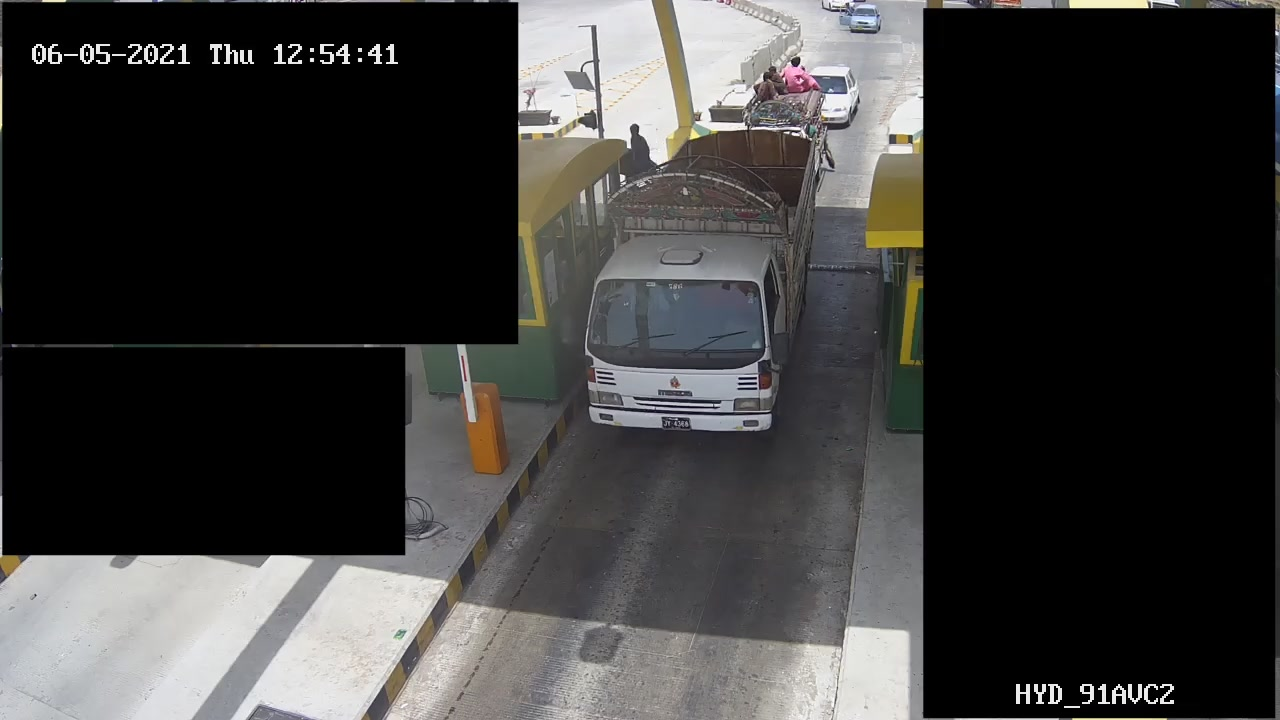F3: (588, 115, 812, 436)
